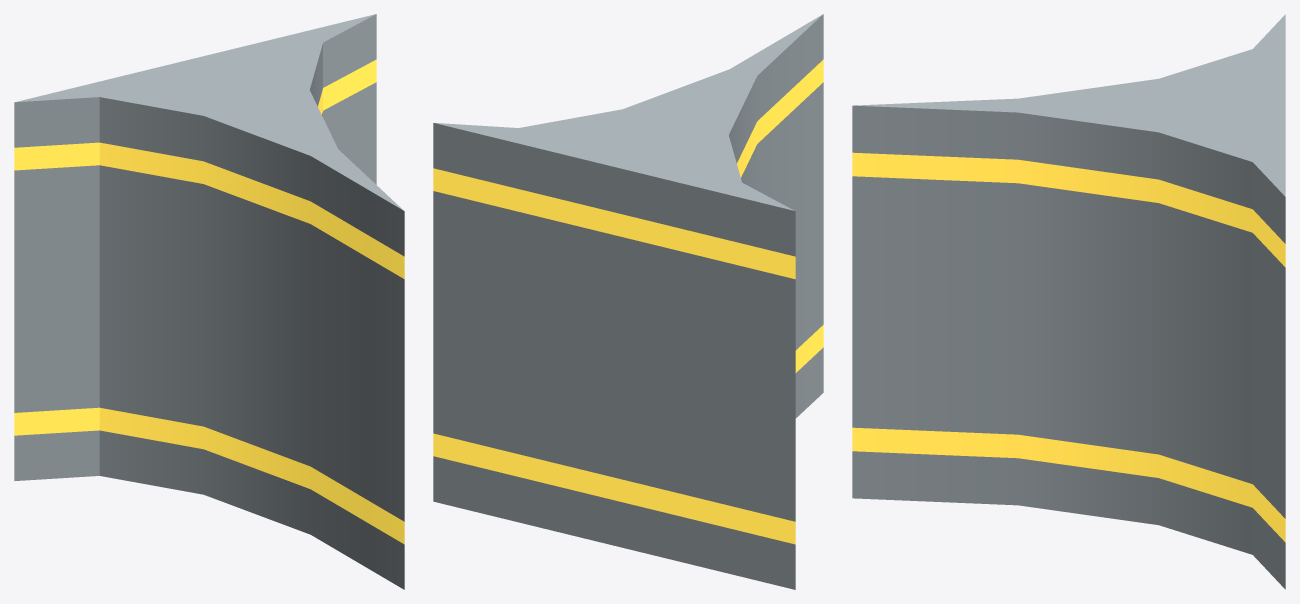
File: SM_Wedge_v0.fbx
The picture shows the model from 3 angles, left to right: view 1: azimuth 30°, elevation 25°; view 2: azimuth 150°, elevation 25°; view 3: azimuth 270°, elevation 25°; orthographic projection. The views are drawn at different scales.
Visible parts, largest first — view 1: SM_Wedge_v0; view 2: SM_Wedge_v0; view 3: SM_Wedge_v0.
Part boxes in pixels (<box>): SM_Wedge_v0: <box>14,14,404,589</box>; SM_Wedge_v0: <box>433,14,823,589</box>; SM_Wedge_v0: <box>852,14,1285,589</box>.
Size of the model in its own units: 1 by 1 by 1.
